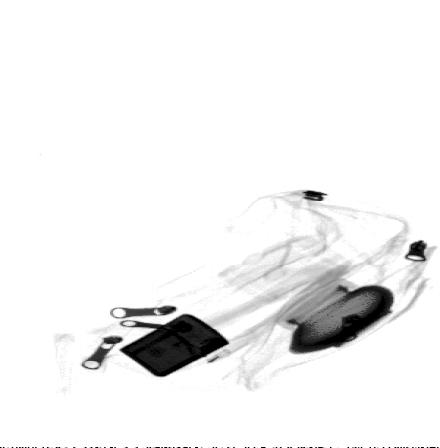Lighter: (117, 314, 229, 378)
